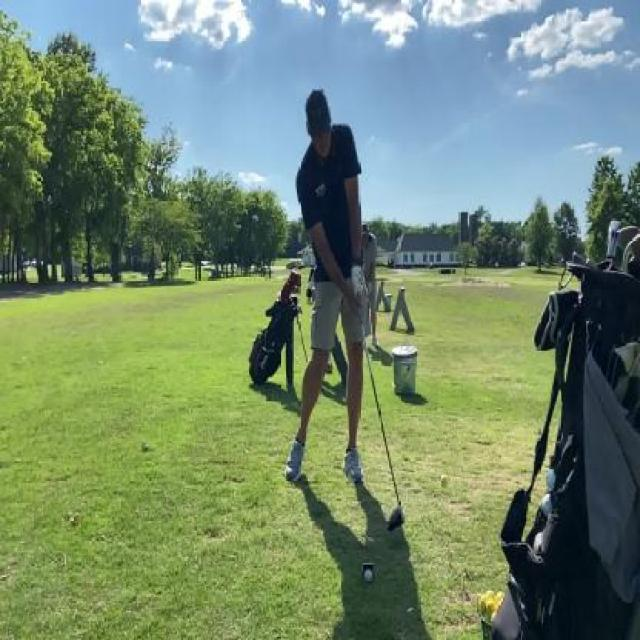club head: (386, 492, 406, 533)
